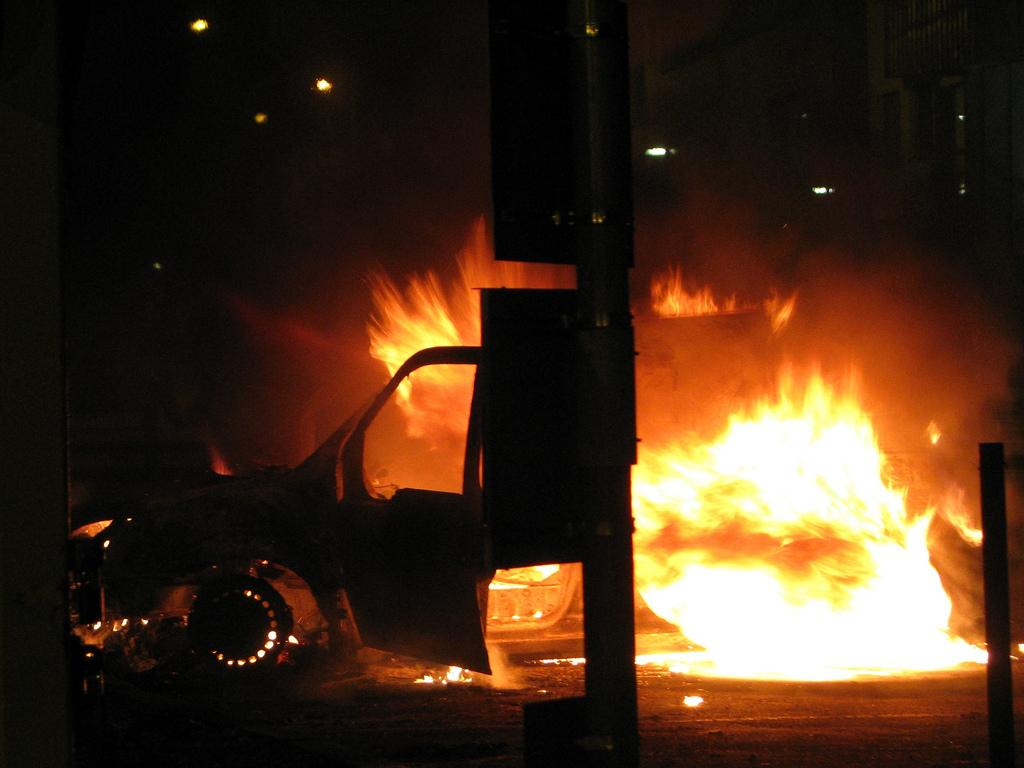fire: (664, 424, 960, 676)
